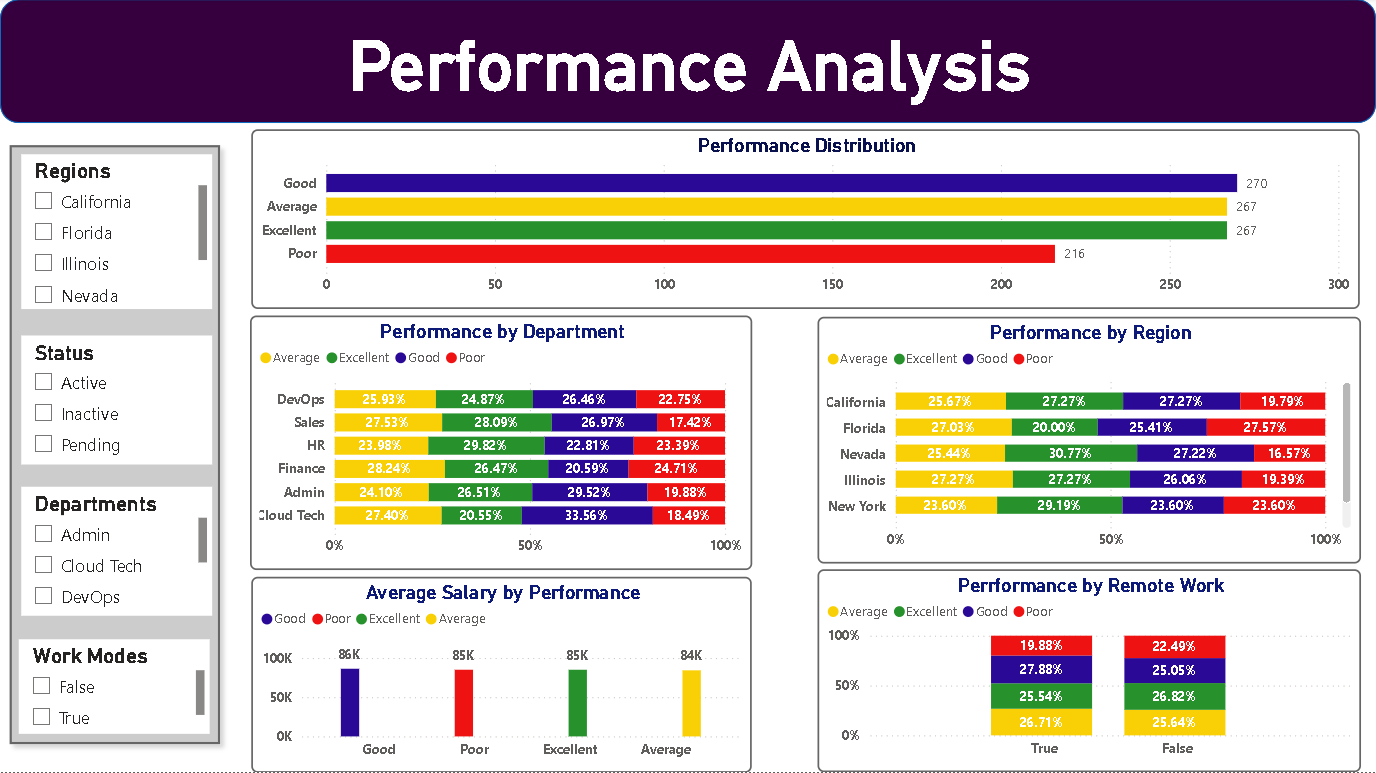

The page's visual inventory and layout, read from the dashboard file:
{"tool":"powerbi","page":{"name":"Page 3","canvas":[1280,720],"ordinal":2},"visuals":[{"type":"shape","box":[0,1.2,1280,115.3],"z":0},{"type":"textbox","box":[319.4,1.2,666.4,127.3],"z":1000},{"type":"clusteredBarChart","title":"Performance Distribution","fields":{"Category":["public employee_details.performance_score"],"Y":["CountNonNull(public employee_details.employee_id)"]},"box":[234.1,122.5,1031.4,166.9],"z":2000},{"type":"hundredPercentStackedBarChart","title":"Performance by Department","fields":{"Category":["public employee_details.department"],"Y":["CountNonNull(public employee_details.employee_id)"],"Series":["public employee_details.performance_score"]},"box":[232.9,295.4,467.1,236.5],"z":3000},{"type":"hundredPercentStackedBarChart","title":"Performance by Region","fields":{"Y":["CountNonNull(public employee_details.employee_id)"],"Series":["public employee_details.performance_score"],"Category":["public employee_details.region"]},"box":[760.1,296.6,505.5,229.3],"z":4000},{"type":"clusteredColumnChart","title":"Average Salary by Performance","fields":{"Series":["public employee_details.performance_score"],"Category":["public employee_details.performance_score"],"Y":["Avg(public employee_details.salary)"]},"box":[234.1,537.9,465.9,182.5],"z":5000},{"type":"hundredPercentStackedColumnChart","title":"Perrformance by Remote Work","fields":{"Category":["public employee_details.remote_work"],"Y":["Count(public employee_details.employee_id)"],"Series":["public employee_details.performance_score"]},"box":[760.1,531.9,505.5,188.5],"z":6000},{"type":"shape","box":[0,128.5,213.7,575.2],"z":7000},{"type":"slicer","fields":{"Values":["public employee_details.region"]},"box":[19.2,145.3,177.7,144.1],"z":8000},{"type":"slicer","fields":{"Values":["public employee_details.status"]},"box":[19.2,313.4,177.7,120.1],"z":9000},{"type":"slicer","fields":{"Values":["public employee_details.department"]},"box":[19.2,455.1,177.7,120.1],"z":10000},{"type":"slicer","fields":{"Values":["public employee_details.remote_work"]},"box":[18,596.8,177.7,87.7],"z":11500}]}

Visuals, with their boxes in screenshot pixels (x1, y1, x2, y2), scaled from the page's 1280x720 canvas onto the 1376x773 screenshot:
shape: [0, 1, 1375, 125]
textbox: [343, 1, 1060, 138]
"Performance Distribution" clusteredBarChart: [252, 132, 1360, 311]
"Performance by Department" hundredPercentStackedBarChart: [250, 317, 752, 571]
"Performance by Region" hundredPercentStackedBarChart: [817, 318, 1361, 565]
"Average Salary by Performance" clusteredColumnChart: [252, 577, 752, 772]
"Perrformance by Remote Work" hundredPercentStackedColumnChart: [817, 571, 1361, 772]
shape: [0, 138, 230, 756]
slicer - public employee_details.region: [21, 156, 212, 311]
slicer - public employee_details.status: [21, 336, 212, 465]
slicer - public employee_details.department: [21, 489, 212, 618]
slicer - public employee_details.remote_work: [19, 641, 210, 735]
